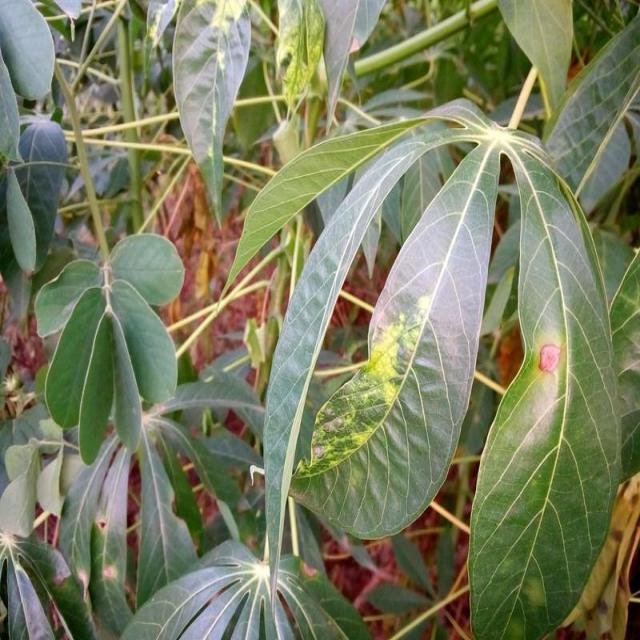cassava leaf: (244, 97, 624, 636), (285, 130, 505, 542), (467, 129, 624, 638), (172, 0, 253, 228)
